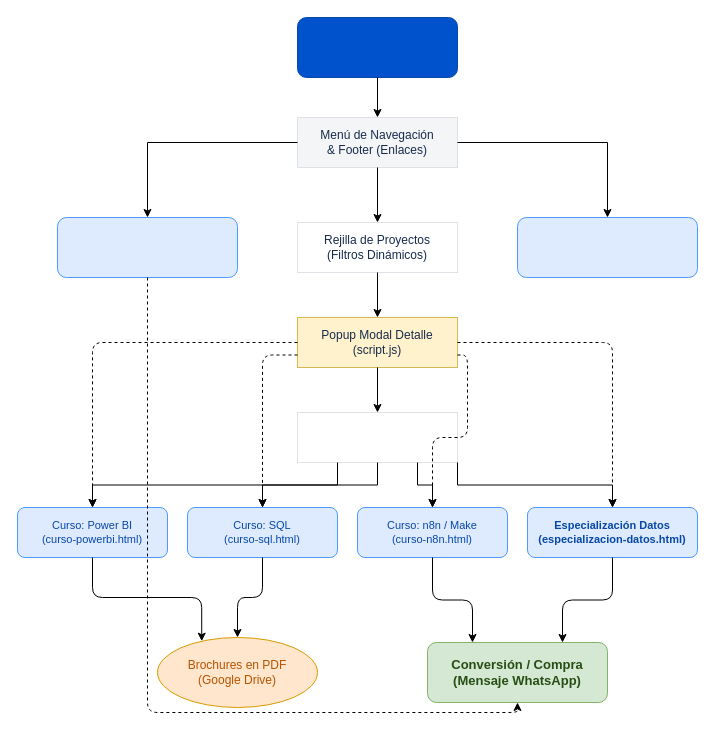
Image size: 715x738. Some labels were removed from this diagram. Each missing label, with the centre of its shape:
"Biografía de Profesores (biografia.html)" belongs at point 607,247.
"Inicio (index.html)" belongs at point 377,47.
"Landing de Ventas (landing-ventas.html)" belongs at point 147,247.
"Sección Formación (Cursos en Vivo)" belongs at point 377,437.
